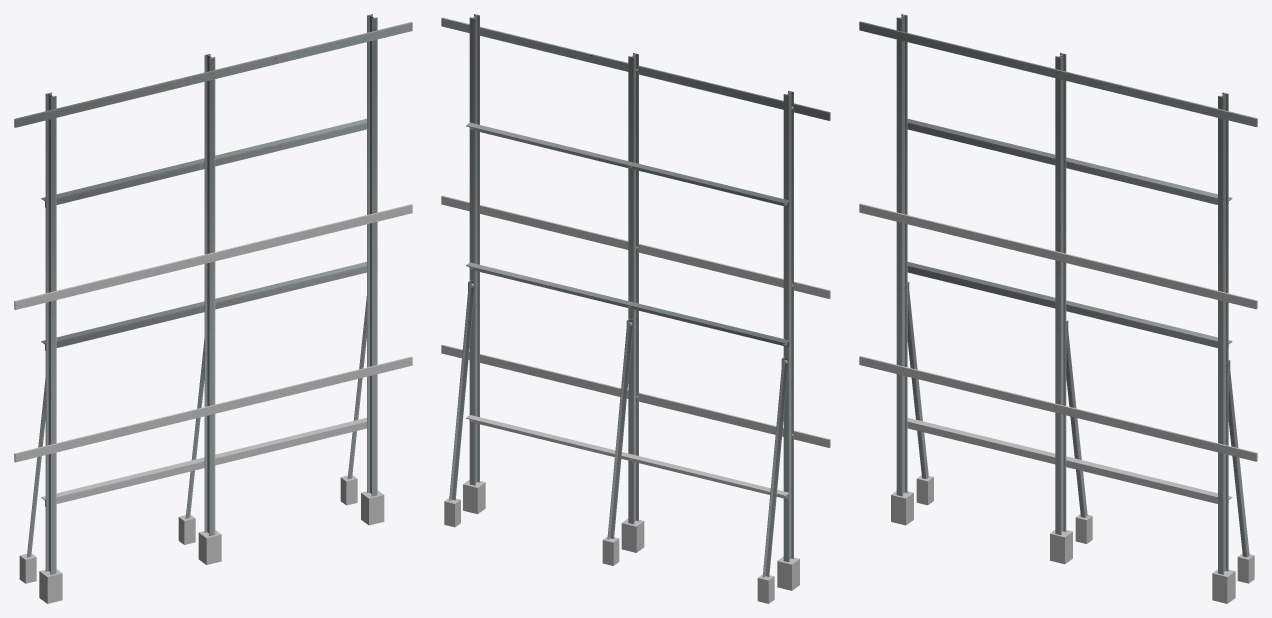
Rendered from signboardframe02a.fbx.
3 renders of one model, left to right at view 1: azimuth 30°, elevation 25°; view 2: azimuth 150°, elevation 25°; view 3: azimuth 330°, elevation 25°, orthographic. The views are drawn at different scales.
Visible parts, largest first — view 1: signboardframe02a; view 2: signboardframe02a; view 3: signboardframe02a.
Boxes of the visible parts, x1=… form: signboardframe02a: x1=14, y1=14, x2=412, y2=603; signboardframe02a: x1=441, y1=14, x2=830, y2=603; signboardframe02a: x1=859, y1=14, x2=1257, y2=603.
Bounding box in the file's own units: 263 × 319 × 34.21.
